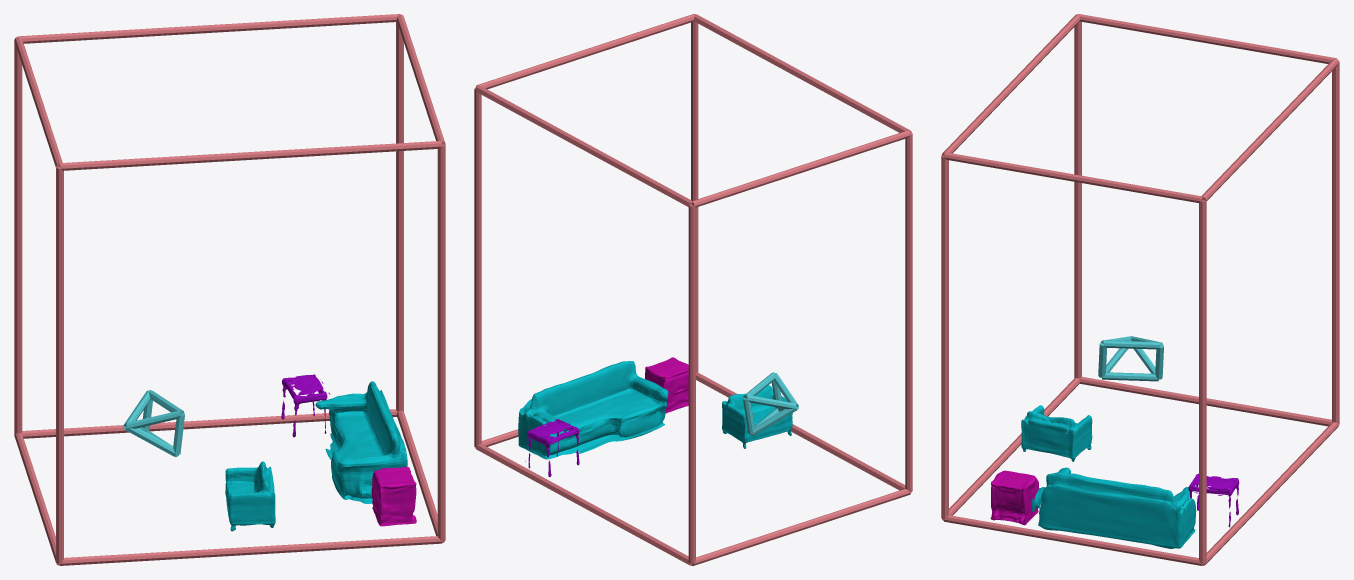
3 views of the same model, side by side, from view 1: azimuth 30°, elevation 25°; view 2: azimuth 150°, elevation 25°; view 3: azimuth 270°, elevation 25° (orthographic). The views are drawn at different scales.
Visible parts, largest first — view 1: world; view 2: world; view 3: world.
Boxes of the visible parts, box(x1,y1,x2,y2) form: world: box(14, 14, 445, 565); world: box(474, 14, 912, 565); world: box(941, 14, 1339, 565).
Size of the model in its own units: 5.75 by 5.32 by 5.21.
